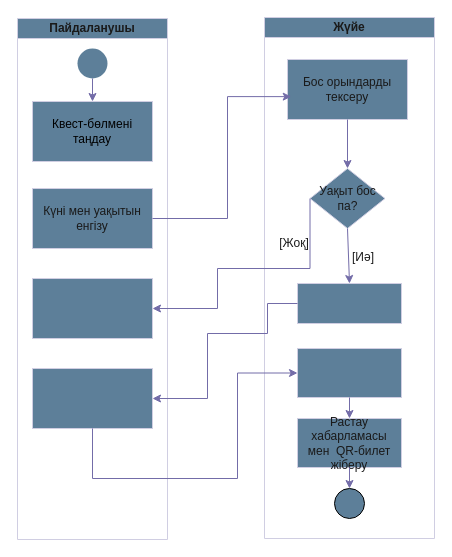
This 452x557 diagram has some shape labels left out. The shapes that lost their labels are listed below. From the top down, each one's centre as x and y in pixels, then its label:
At [92,308]: "Басқа уақытты таңдау".
At [349,303]: "Брондау сомасын есептеу".
At [349,373]: "Броньды дерекқорға сақтау".
At [92,398]: "Байланыс деректерін енгізу және төлеу".
